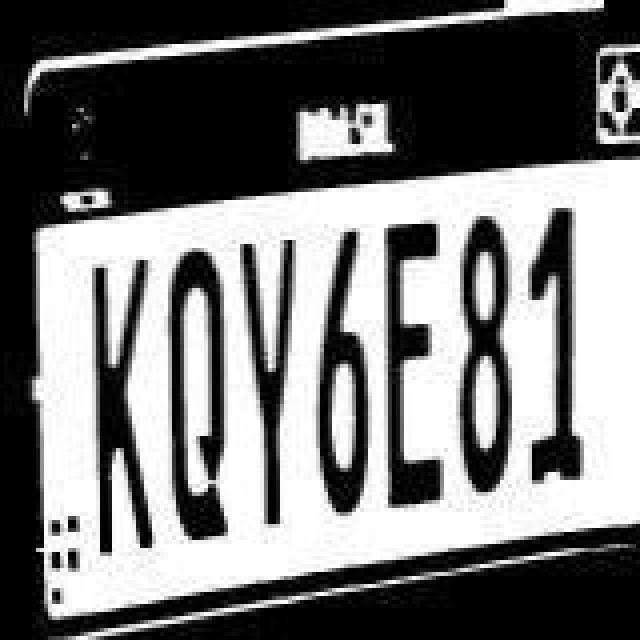1: (518, 206, 598, 490)
6: (312, 226, 372, 526)
8: (450, 214, 514, 498)
E: (372, 216, 448, 520)
K: (76, 250, 160, 550)
Q: (170, 234, 234, 542)
Y: (242, 232, 306, 536)
